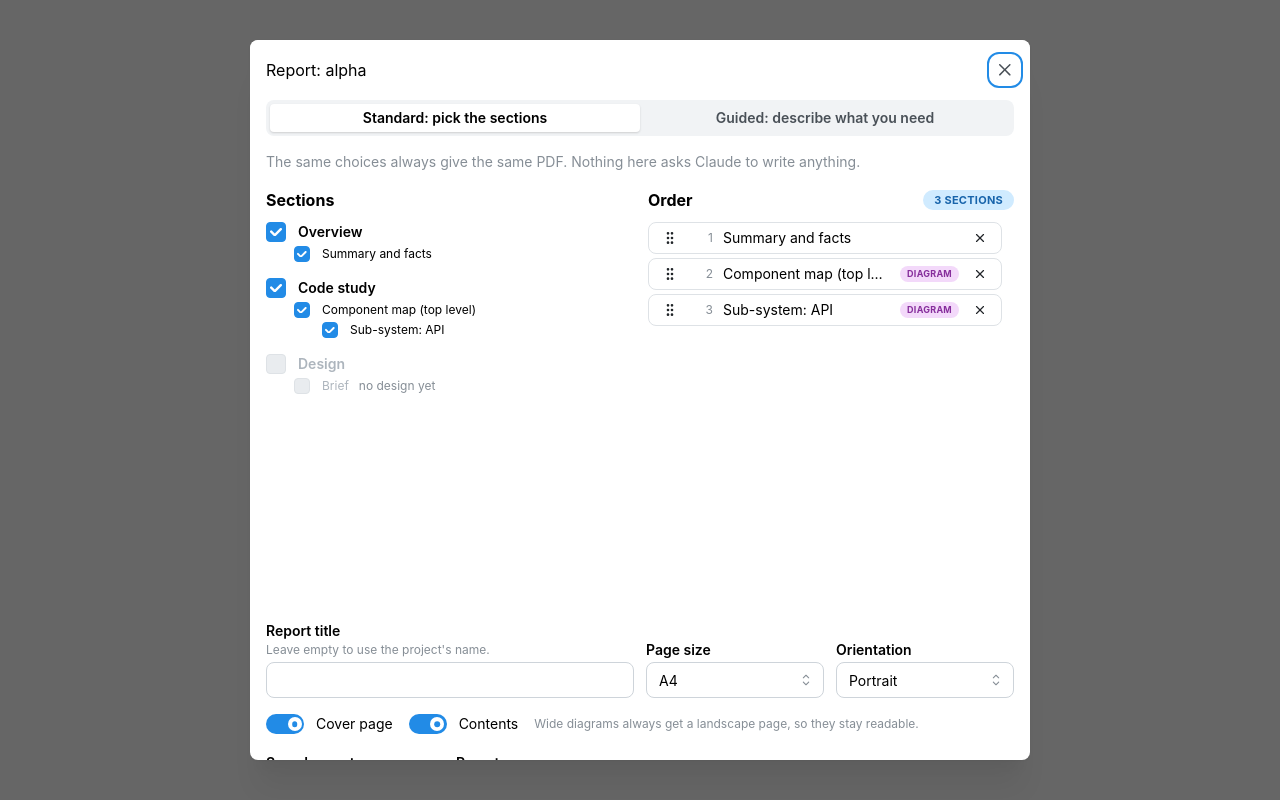
Test case: ReportDialog › removes a section from the order when it is unticked, and adds it back
The width and height of the screenshot is (1280, 800).
Expected: the text "3 sections" is shown, [934,191,1003,209]
Step 1. Click the button named "Remove Summary and facts" → {"x": 980, "y": 238}, box [969,227,991,249]
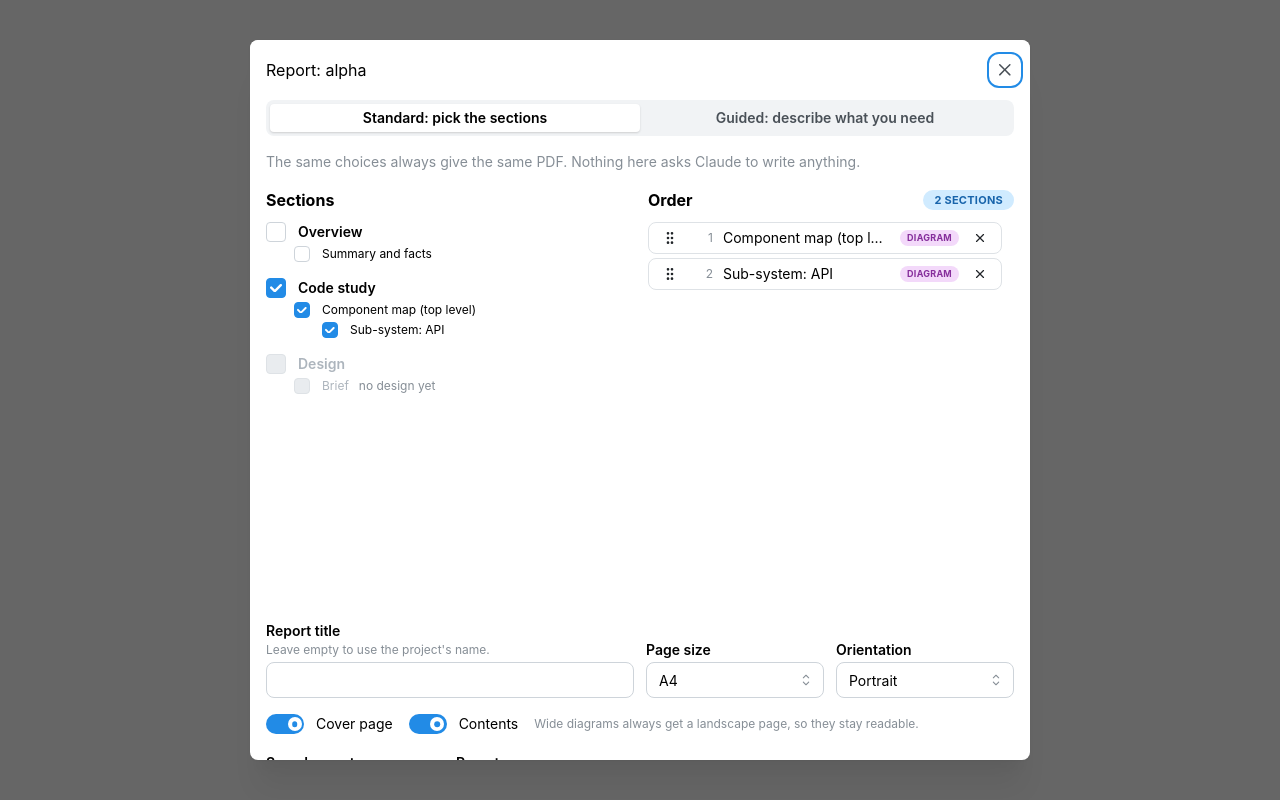
Expected: the text "2 sections" is shown, [934,191,1003,209]
Step 2. Click the checkbox labelled "Summary and facts" → {"x": 302, "y": 254}, box [294,246,310,262]
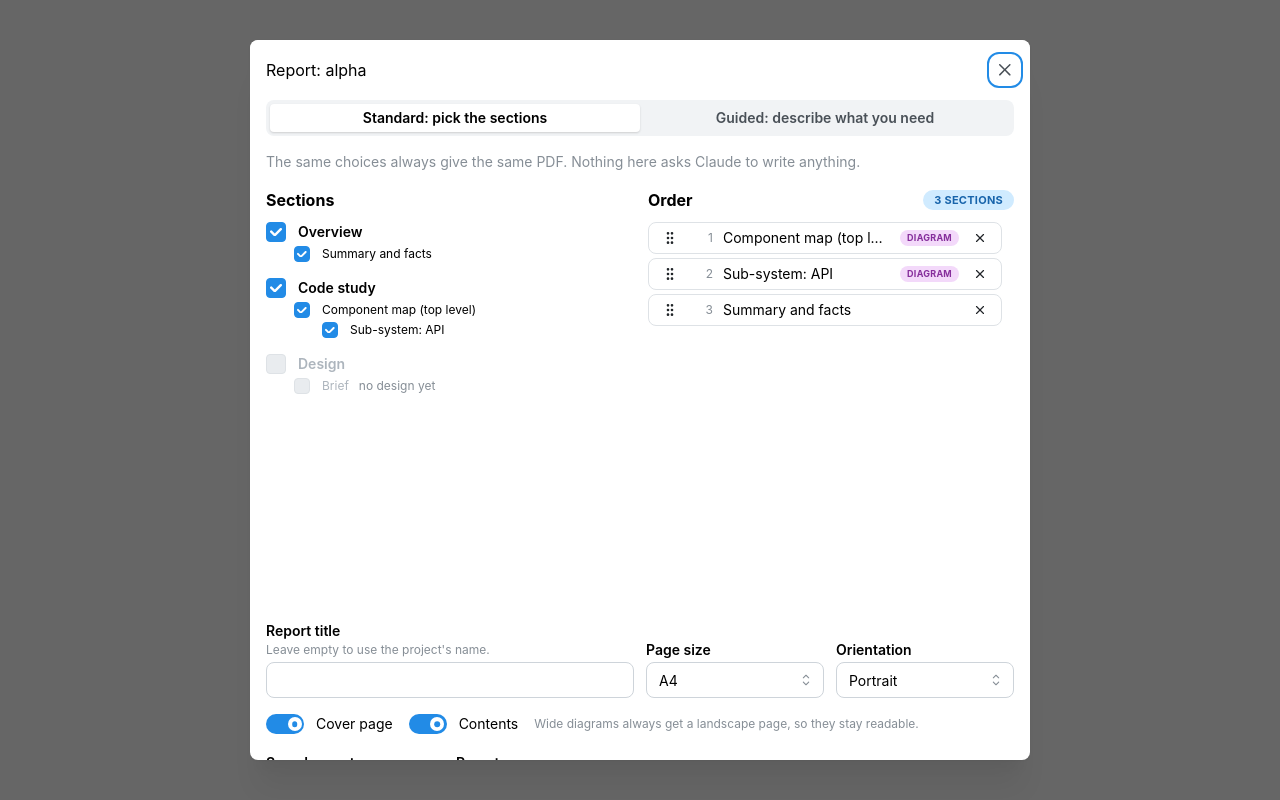
Expected: the text "3 sections" is shown, [934,191,1003,209]
